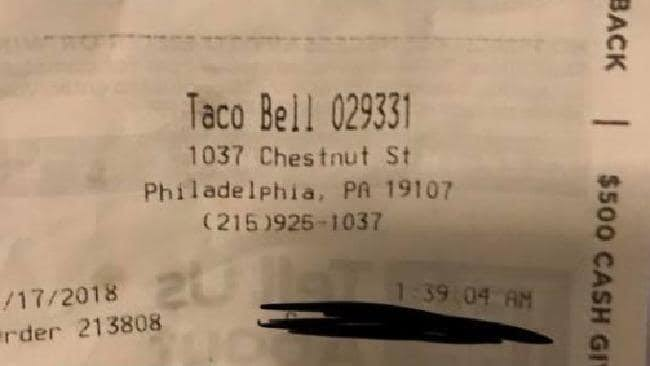Taco Bell: (182, 85, 317, 135)
